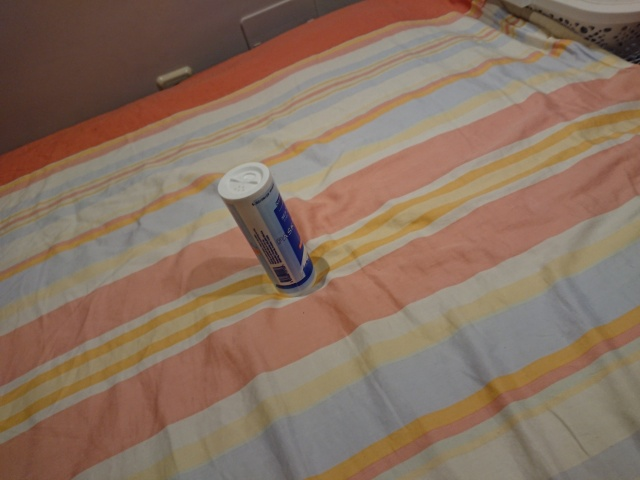Solana Pag Fine Sea Salt 250g: (214, 158, 319, 300)
